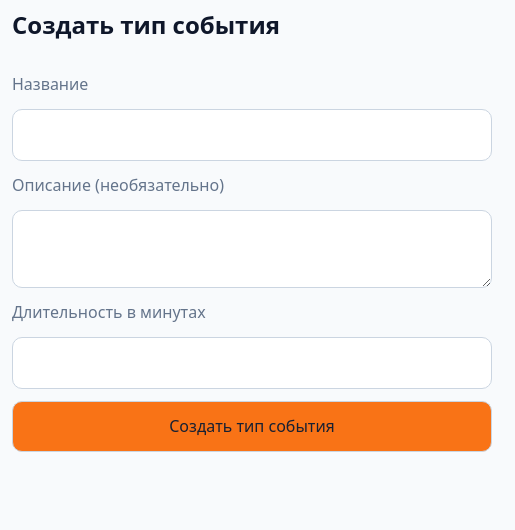
Test: handles failure null without confirmation or automatic retry, retaining input for a manual retry
Type "Звонок" into the field labelled "Название" at (252, 135), box [12, 109, 492, 161]
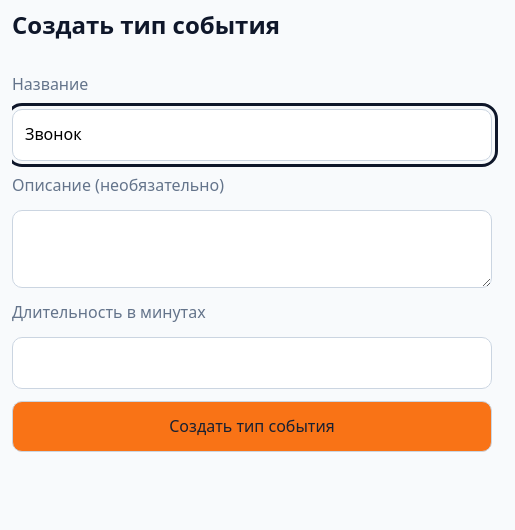
Type "Описание" into the text box labelled "Описание (необязательно)" at (252, 249), box [12, 210, 492, 288]
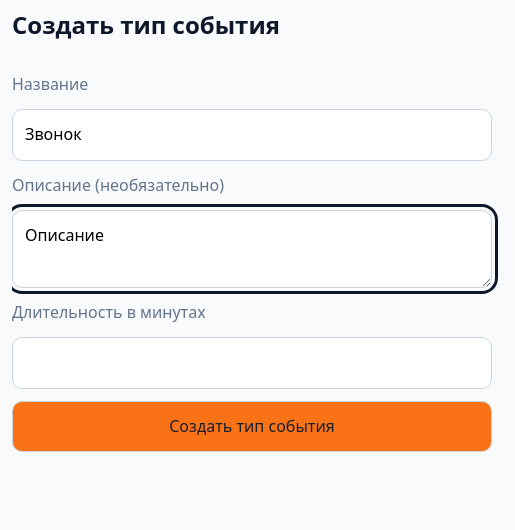
Type "30" into the number field labelled "Длительность в минутах" at (252, 363), box [12, 337, 492, 389]
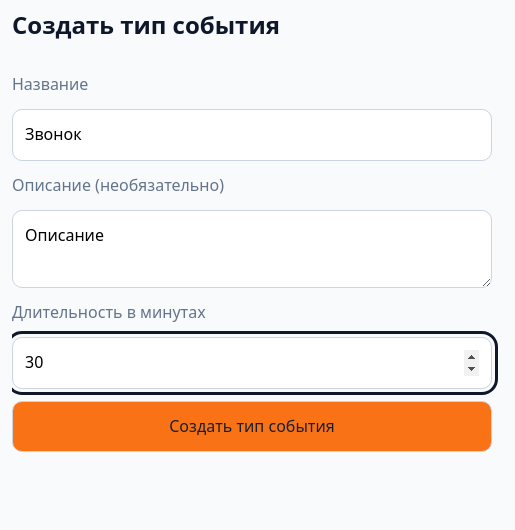
Click the button "Создать тип события" at (252, 427), box [12, 401, 492, 452]
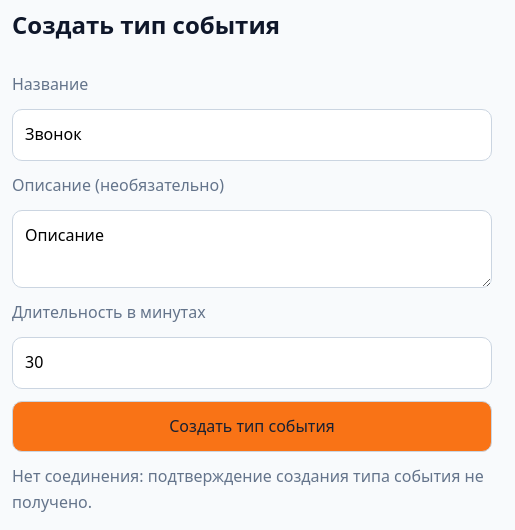
Now the message reads "Нет соединения: подтверждение создания типа события не получено.", box [12, 465, 484, 513]
Click the button "Создать тип события" at (252, 427), box [12, 401, 492, 452]
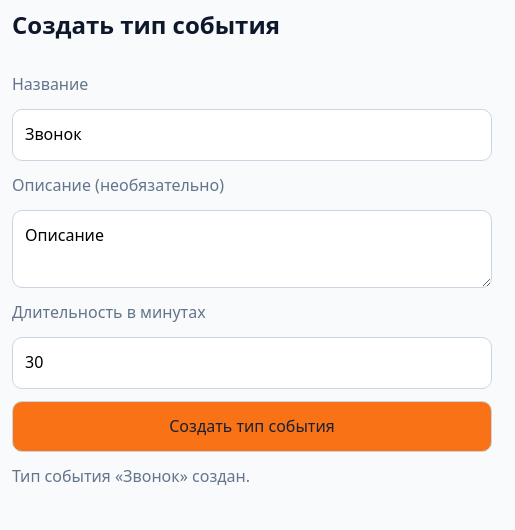
Now the message reads "Тип события «Звонок» создан.", box [12, 465, 250, 487]
